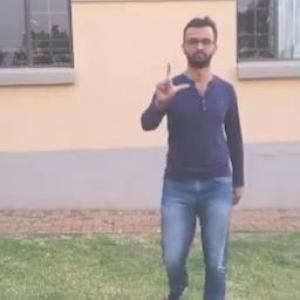land_hand: (148, 58, 192, 108)
